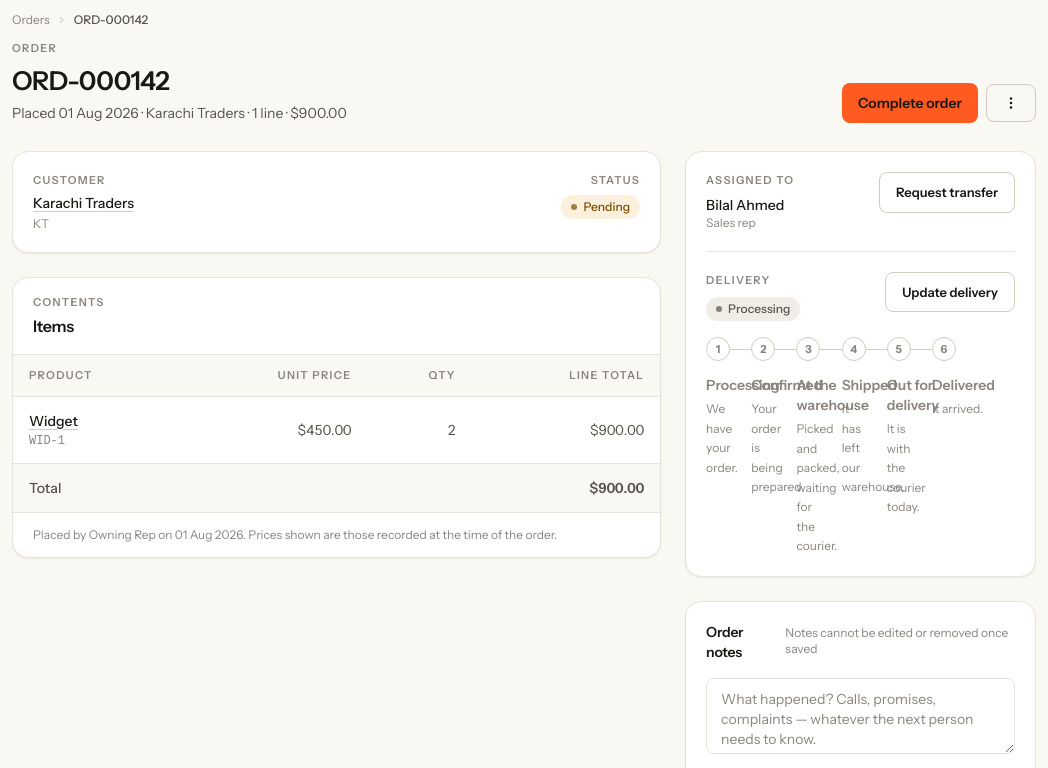
Test: a rep asking for a transfer › reports a refusal instead of appearing to succeed
Click the button "Request transfer". click: (947, 192)
box: [879,172,1015,213]
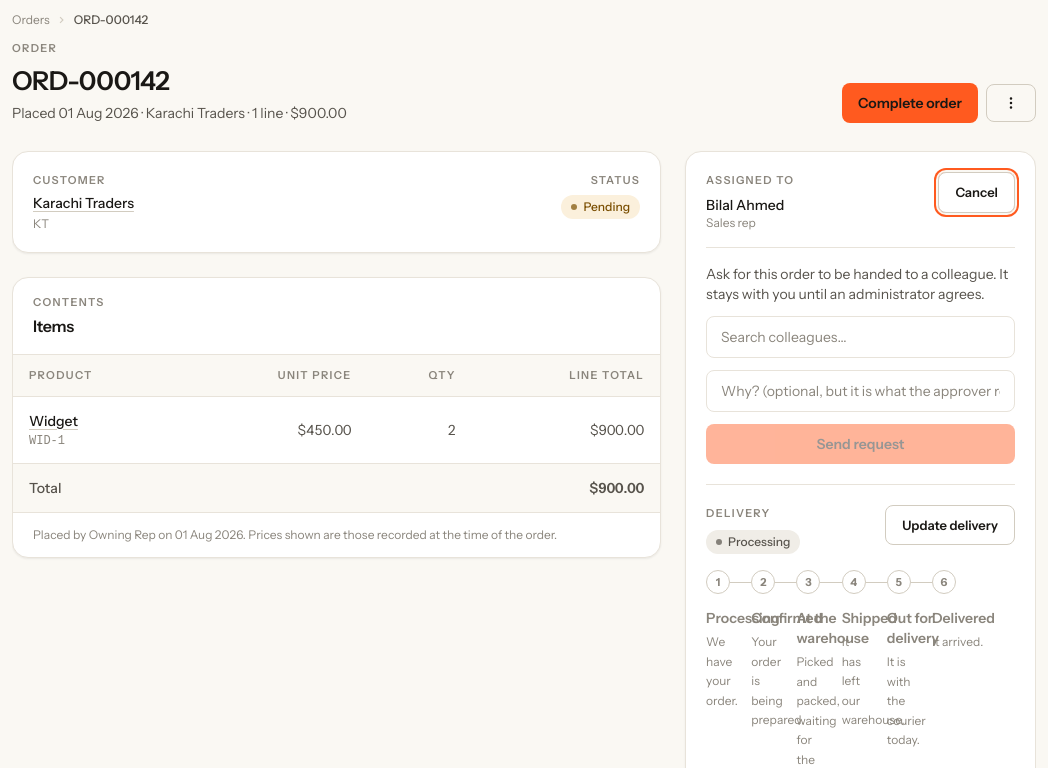
Type "Bilal" into the dropdown with placeholder "Search colleagues…". click: (861, 336)
box: [706,316,1015,358]
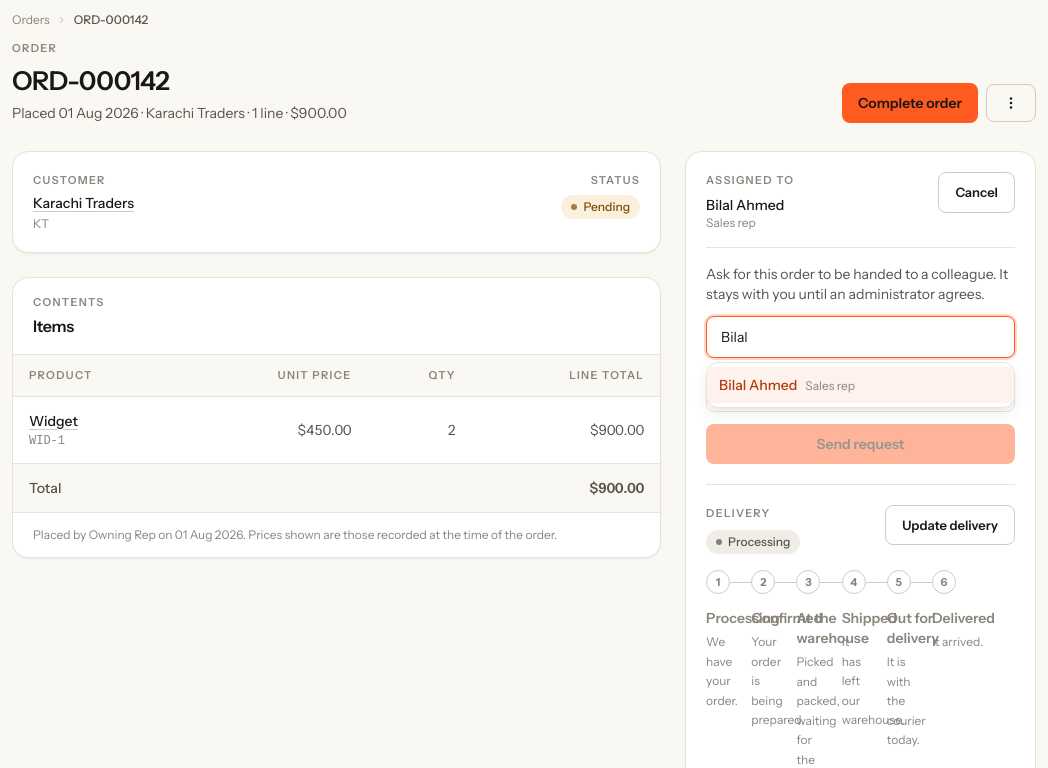
Click the option "Bilal Ahmed". click: (758, 384)
box: [707,366,1014,402]
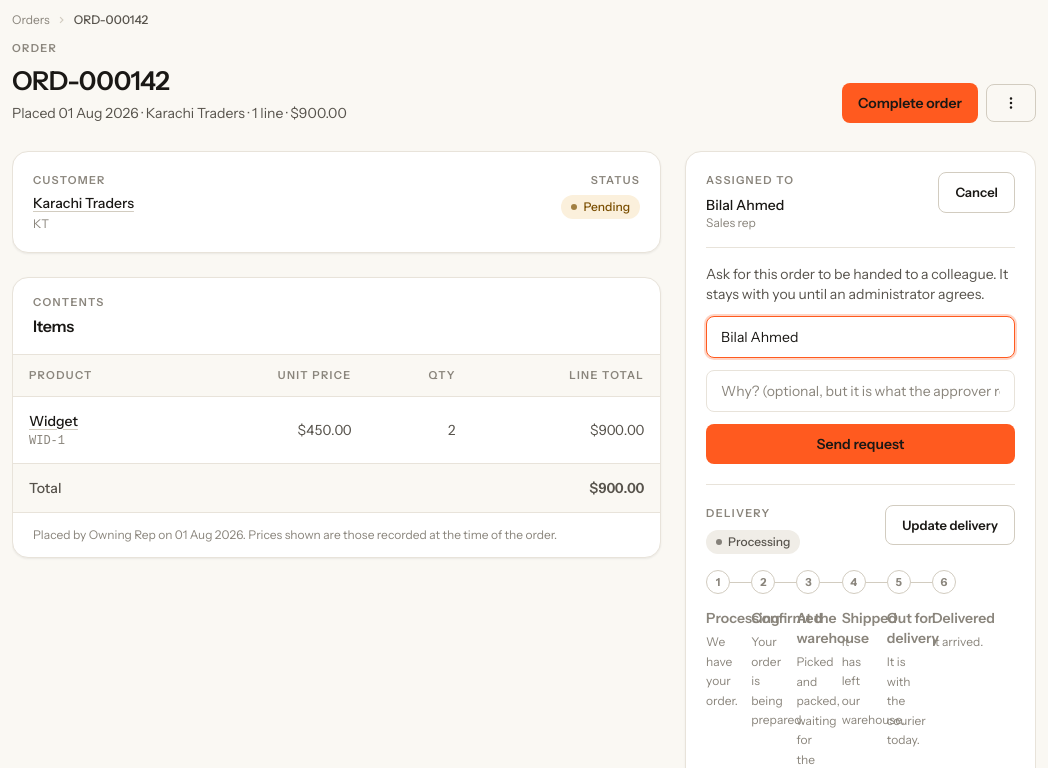
Click the button "Send request". click: (861, 444)
box: [706,424,1015,464]
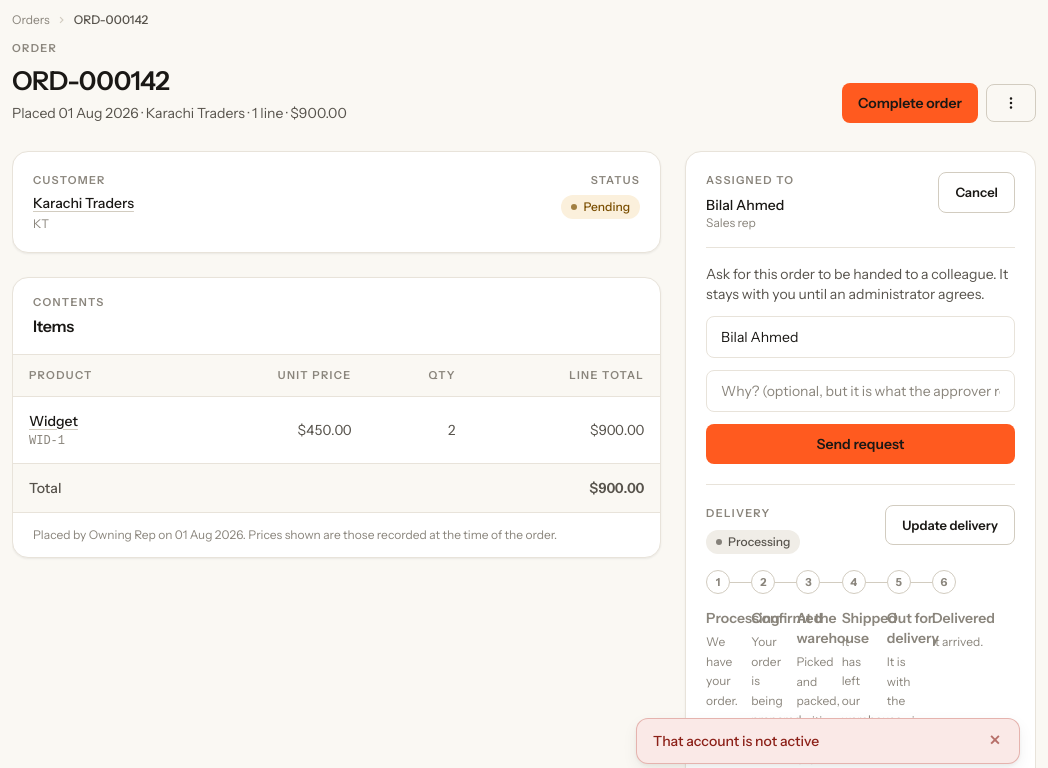
Expected: the text "That account is not active" is shown, [653,732,819,750]
